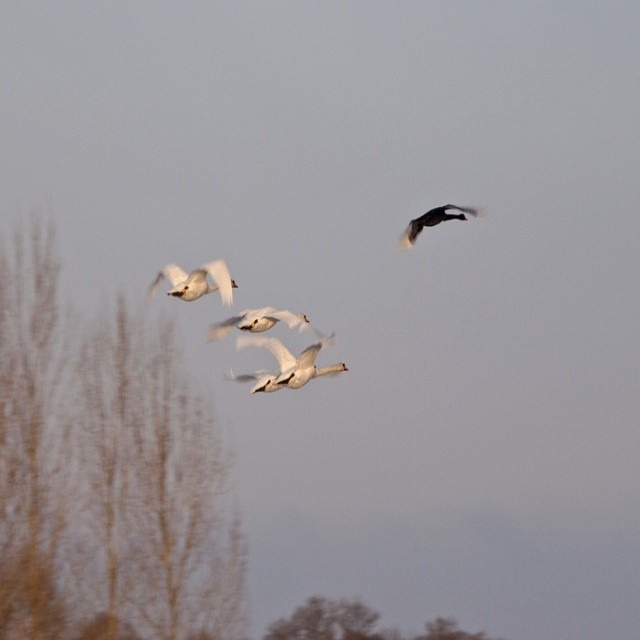Goose: (233, 336, 344, 400), (153, 259, 235, 323), (210, 297, 315, 343), (393, 201, 479, 255)
